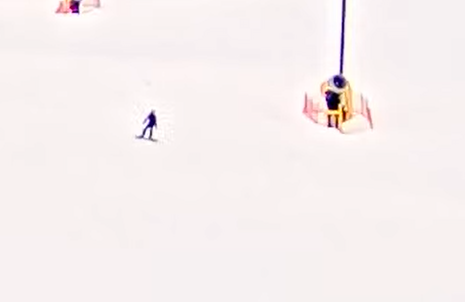snowboarder: (123, 101, 177, 148)
